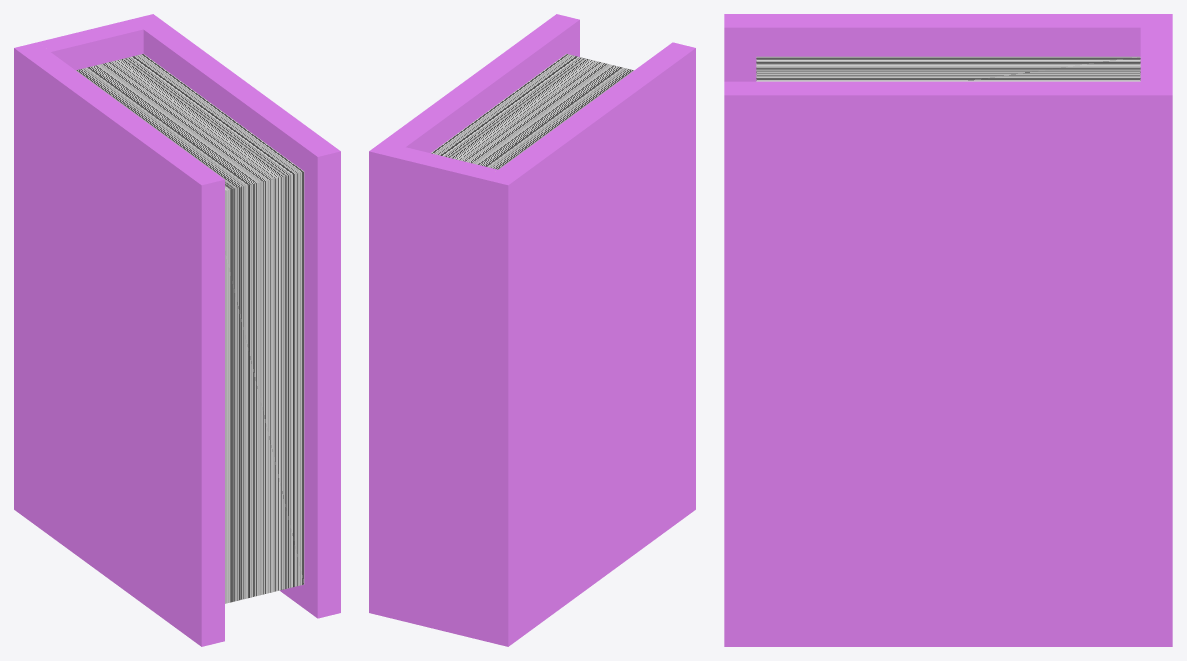
File: book_magenta.glb
The picture shows the model from 3 angles, left to right: view 1: azimuth 30°, elevation 25°; view 2: azimuth 150°, elevation 25°; view 3: azimuth 270°, elevation 25°; orthographic projection. The views are drawn at different scales.
Size of the model in its own units: 12 by 38 by 28.
1 material, 1 textured.
